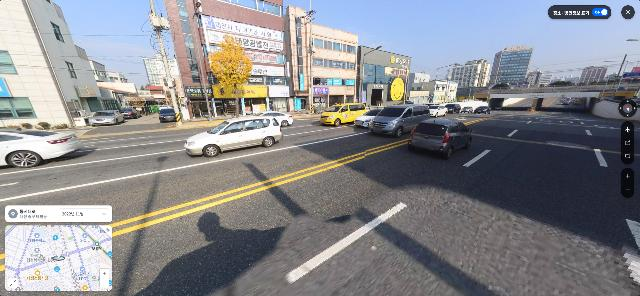ginkgo: (209, 35, 253, 117)
